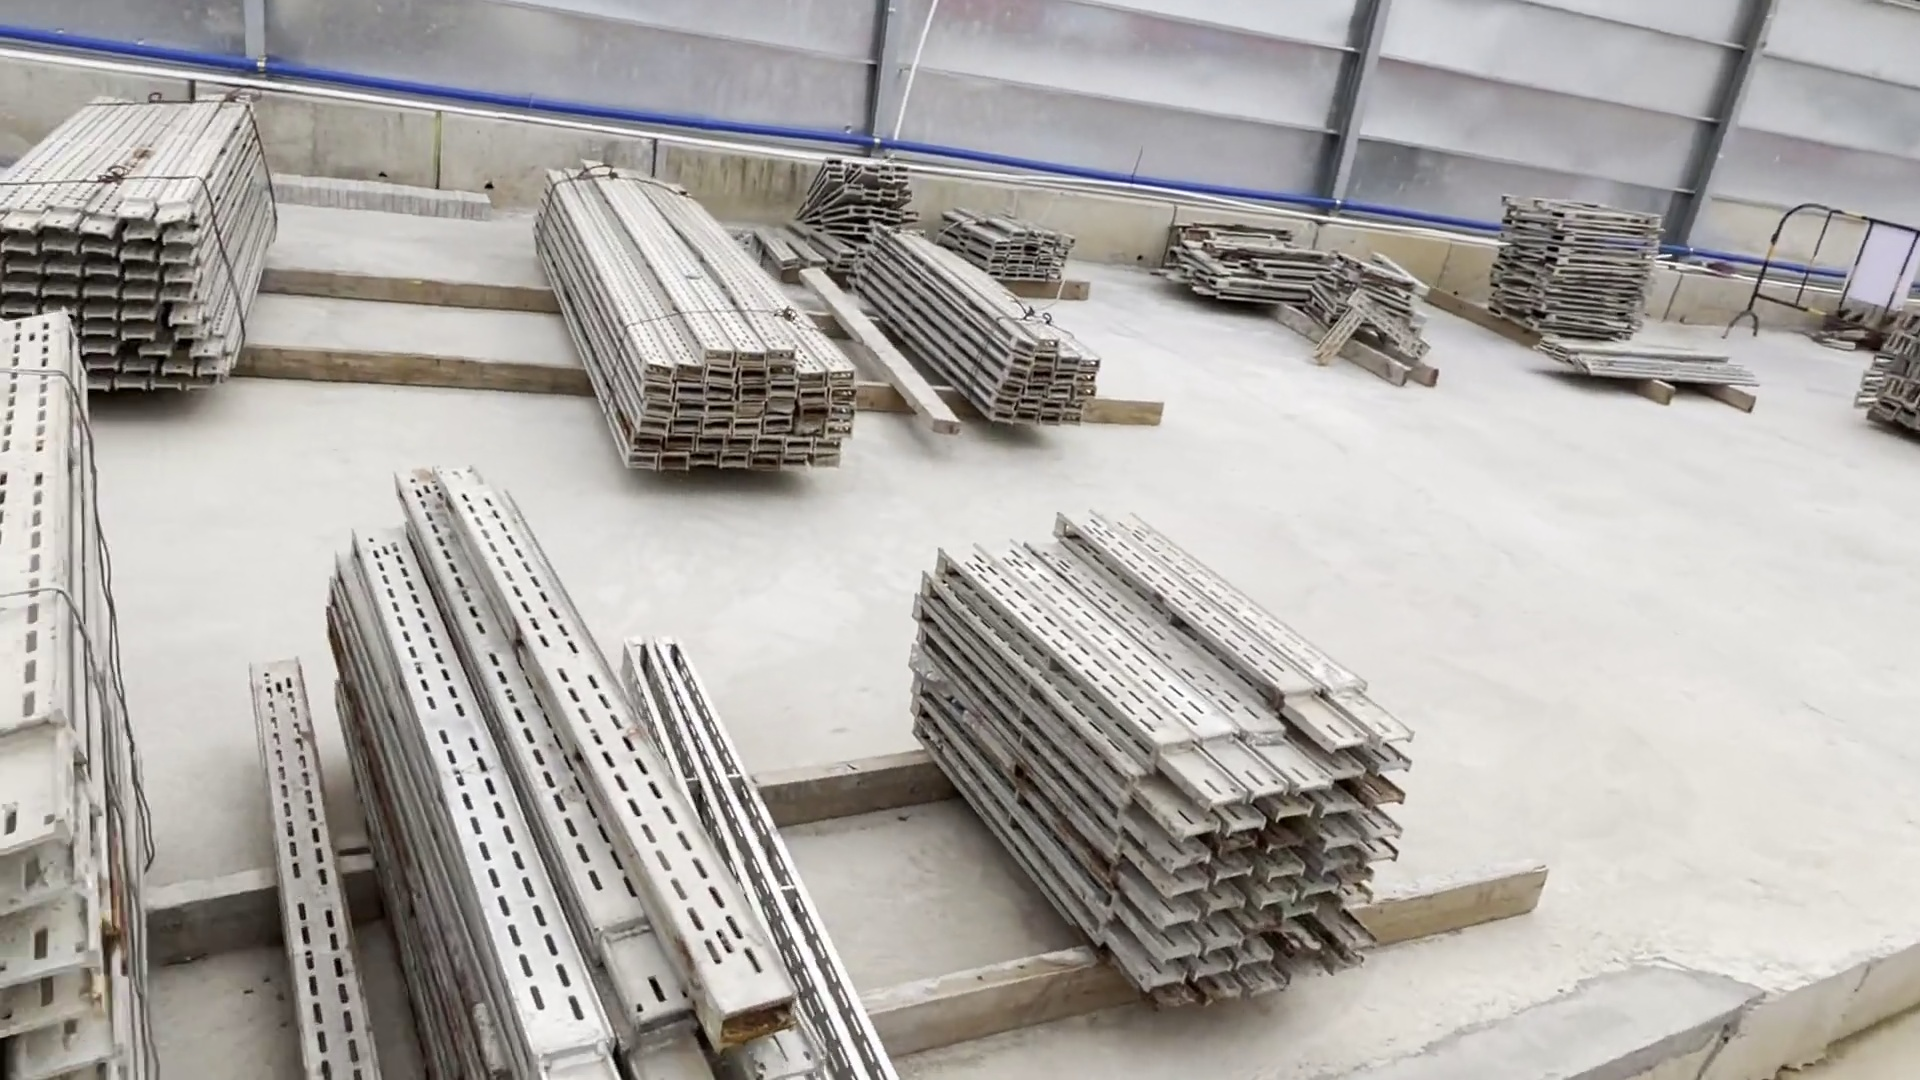fence: (1713, 199, 1920, 343)
